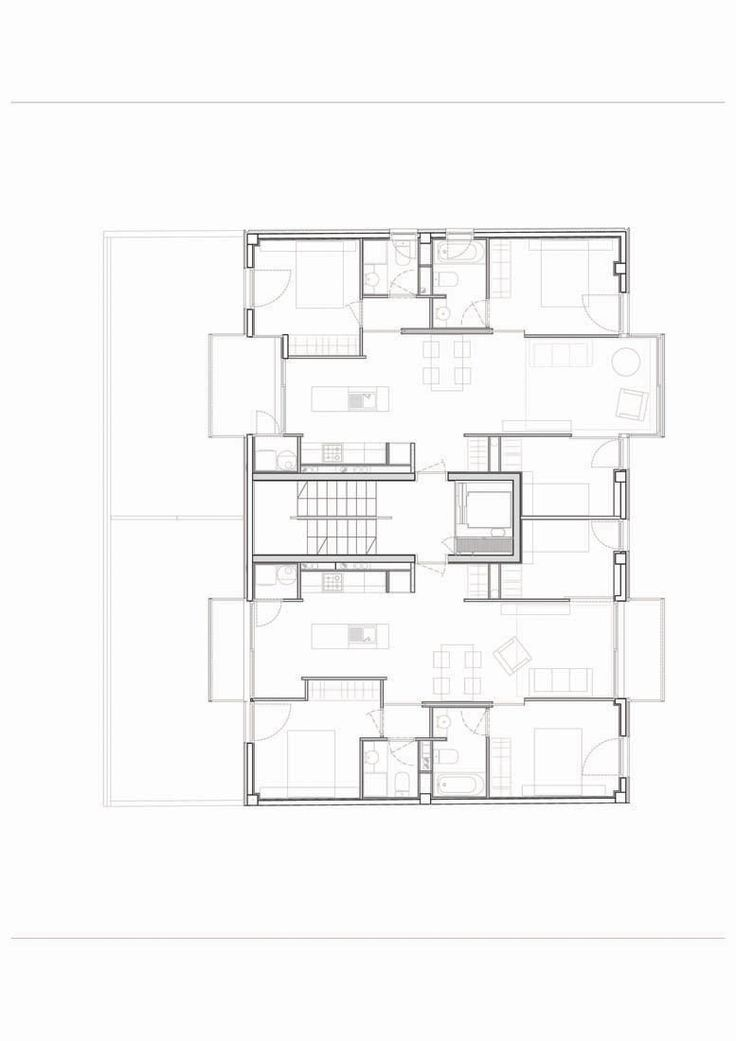door: (578, 735, 634, 789), (241, 697, 303, 743), (581, 287, 630, 338), (248, 266, 297, 308), (248, 397, 280, 439), (589, 439, 638, 462), (251, 600, 284, 632)
room: (245, 562, 634, 692), (284, 349, 672, 454), (256, 687, 637, 793), (422, 227, 626, 336), (243, 232, 368, 363)
wall: (241, 787, 627, 814), (240, 432, 264, 606), (254, 462, 415, 487), (478, 224, 630, 249), (259, 225, 395, 251), (502, 460, 529, 565), (249, 555, 435, 570), (513, 509, 627, 533), (464, 589, 578, 612), (522, 689, 616, 716), (300, 668, 394, 695), (608, 217, 637, 293), (519, 325, 621, 346), (232, 738, 261, 805), (464, 428, 570, 446), (403, 317, 500, 336), (615, 463, 640, 528), (476, 244, 502, 301), (349, 738, 372, 798), (422, 697, 492, 716), (454, 463, 518, 482), (354, 241, 375, 298), (251, 689, 305, 711), (608, 698, 635, 739), (449, 552, 524, 566), (611, 554, 630, 606), (294, 349, 368, 362), (480, 741, 497, 793), (240, 235, 264, 268), (424, 705, 443, 746), (370, 676, 391, 708), (415, 233, 426, 293), (284, 432, 308, 455), (280, 335, 292, 365), (245, 314, 259, 338), (424, 225, 446, 238)
window: (418, 222, 483, 247), (237, 270, 268, 311), (610, 295, 635, 332), (613, 527, 637, 555)
